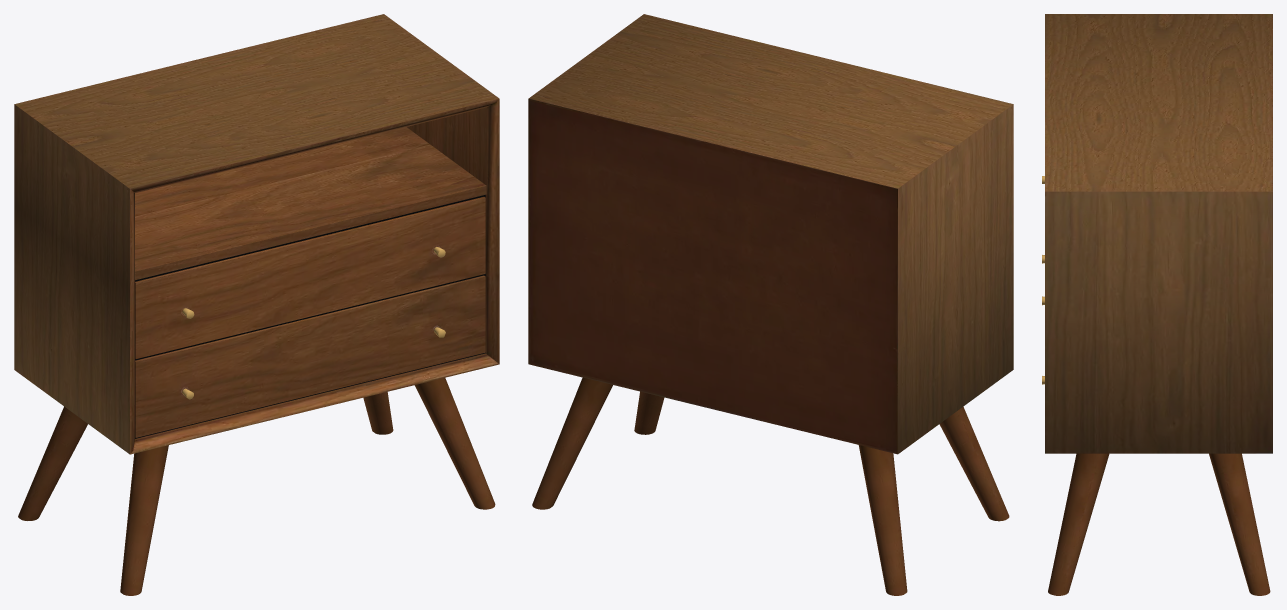
The model's file is abo-B07HSH22K8.glb.
The picture shows the model from 3 angles, left to right: view 1: azimuth 30°, elevation 25°; view 2: azimuth 150°, elevation 25°; view 3: azimuth 270°, elevation 25°; orthographic projection.
Parts seen in each view (by area): view 1: RootNode; view 2: RootNode; view 3: RootNode.
Boxes of the visible parts, x1=… form: RootNode: x1=14, y1=14, x2=499, y2=595; RootNode: x1=528, y1=14, x2=1013, y2=595; RootNode: x1=1042, y1=14, x2=1272, y2=595.
Bounding box in the file's own units: 0.7112 × 0.7481 × 0.3876.
1 material, 1 textured.
